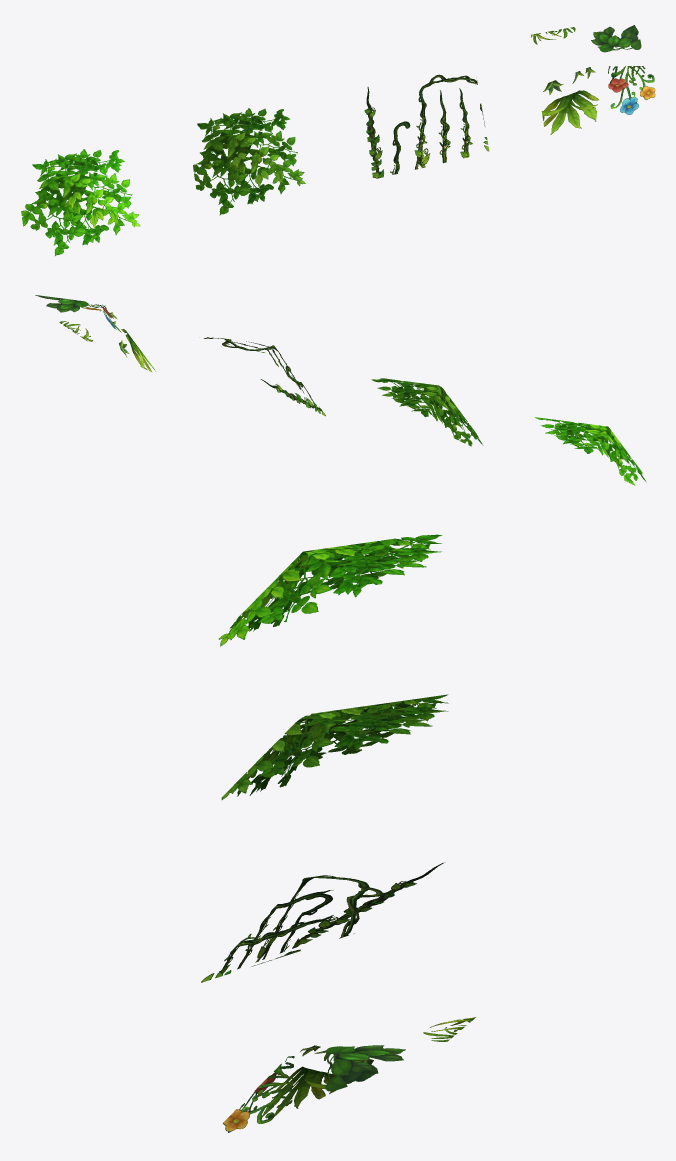
Rendered from xiyou_zhucheng_dashuyezi.FBX.
The picture shows the model from 3 angles, top to bottom: view 1: azimuth 30°, elevation 25°; view 2: azimuth 150°, elevation 25°; view 3: azimuth 270°, elevation 25°; orthographic projection. The views are drawn at different scales.
Parts seen in each view (by area): view 1: Object002, Object005, Object003, Object004; view 2: Object005, Object002, Object003, Object004; view 3: Object002, Object005, Object003, Object004.
Part boxes in pixels (x1=…): Object002: x1=21, y1=149, x2=140, y2=255; Object005: x1=193, y1=108, x2=305, y2=215; Object003: x1=531, y1=25, x2=655, y2=134; Object004: x1=364, y1=74, x2=489, y2=178; Object005: x1=371, y1=378, x2=483, y2=446; Object002: x1=535, y1=417, x2=646, y2=485; Object003: x1=35, y1=295, x2=155, y2=372; Object004: x1=204, y1=337, x2=325, y2=416; Object002: x1=218, y1=534, x2=442, y2=646; Object005: x1=221, y1=694, x2=448, y2=799; Object003: x1=223, y1=1017, x2=476, y2=1132; Object004: x1=201, y1=862, x2=445, y2=982.
Size of the model in its own units: 304 by 33.68 by 58.53.
